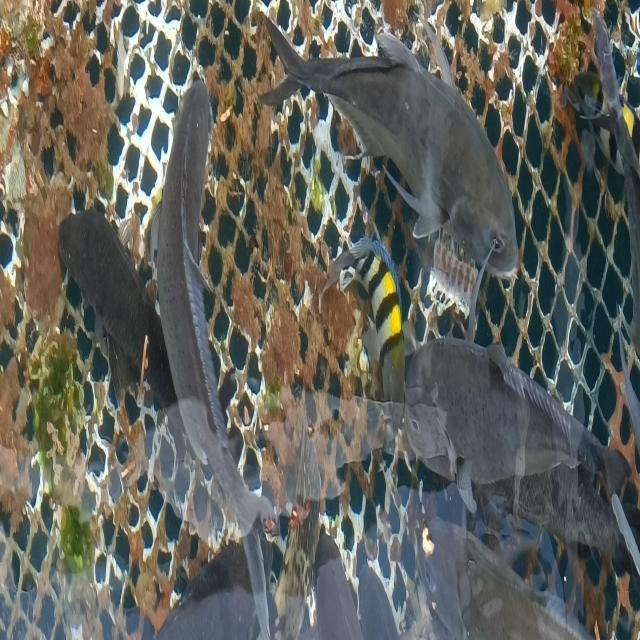ikan: (57, 73, 279, 636), (252, 5, 520, 346), (402, 332, 639, 575), (319, 232, 406, 407)
